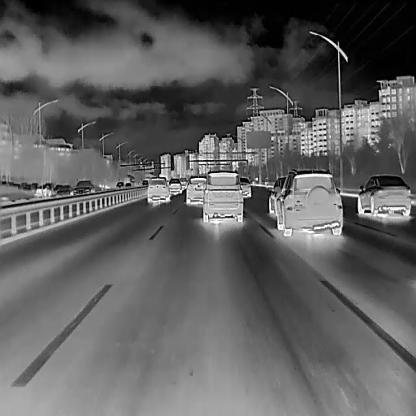car: (274, 168, 343, 236), (355, 173, 411, 218), (201, 169, 242, 223), (267, 175, 291, 214), (185, 175, 209, 205), (145, 175, 169, 203), (73, 178, 94, 197), (238, 176, 251, 198), (167, 176, 181, 194), (57, 183, 72, 197), (180, 176, 188, 189), (115, 180, 124, 188), (124, 181, 132, 189), (141, 178, 148, 187)
